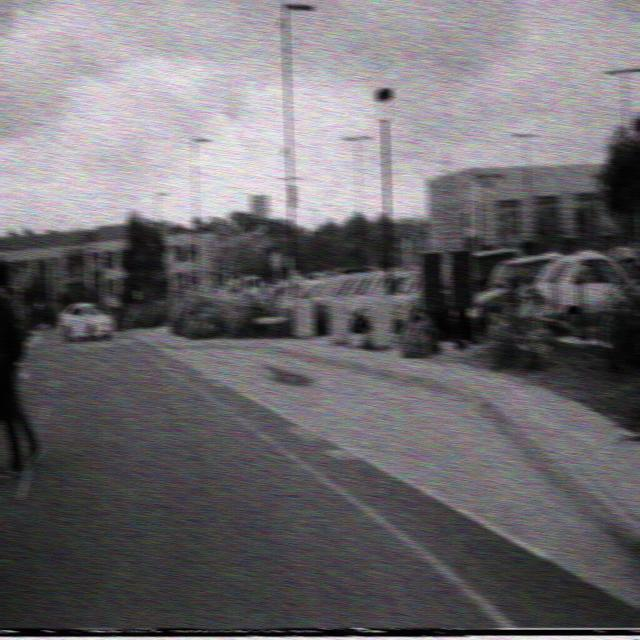stop_sign: (162, 245, 178, 272), (425, 229, 440, 254)
